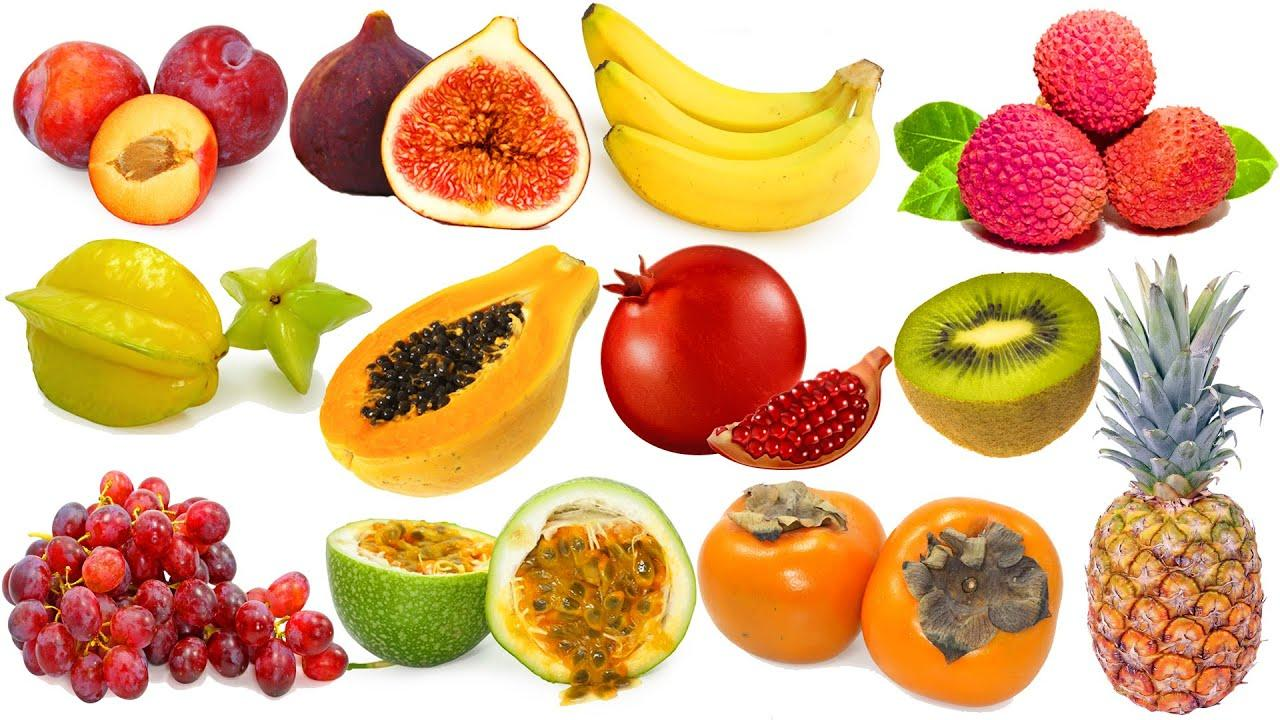chuoi: (588, 0, 881, 236)
